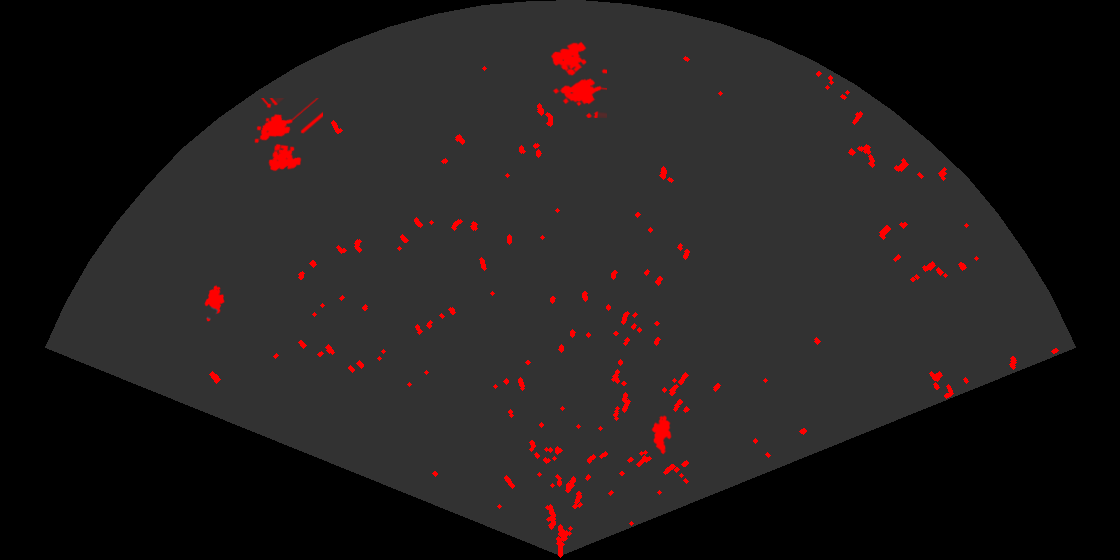AUV: (650, 414, 673, 456), (203, 283, 226, 323)
cage: (253, 98, 323, 173), (549, 40, 607, 118)
